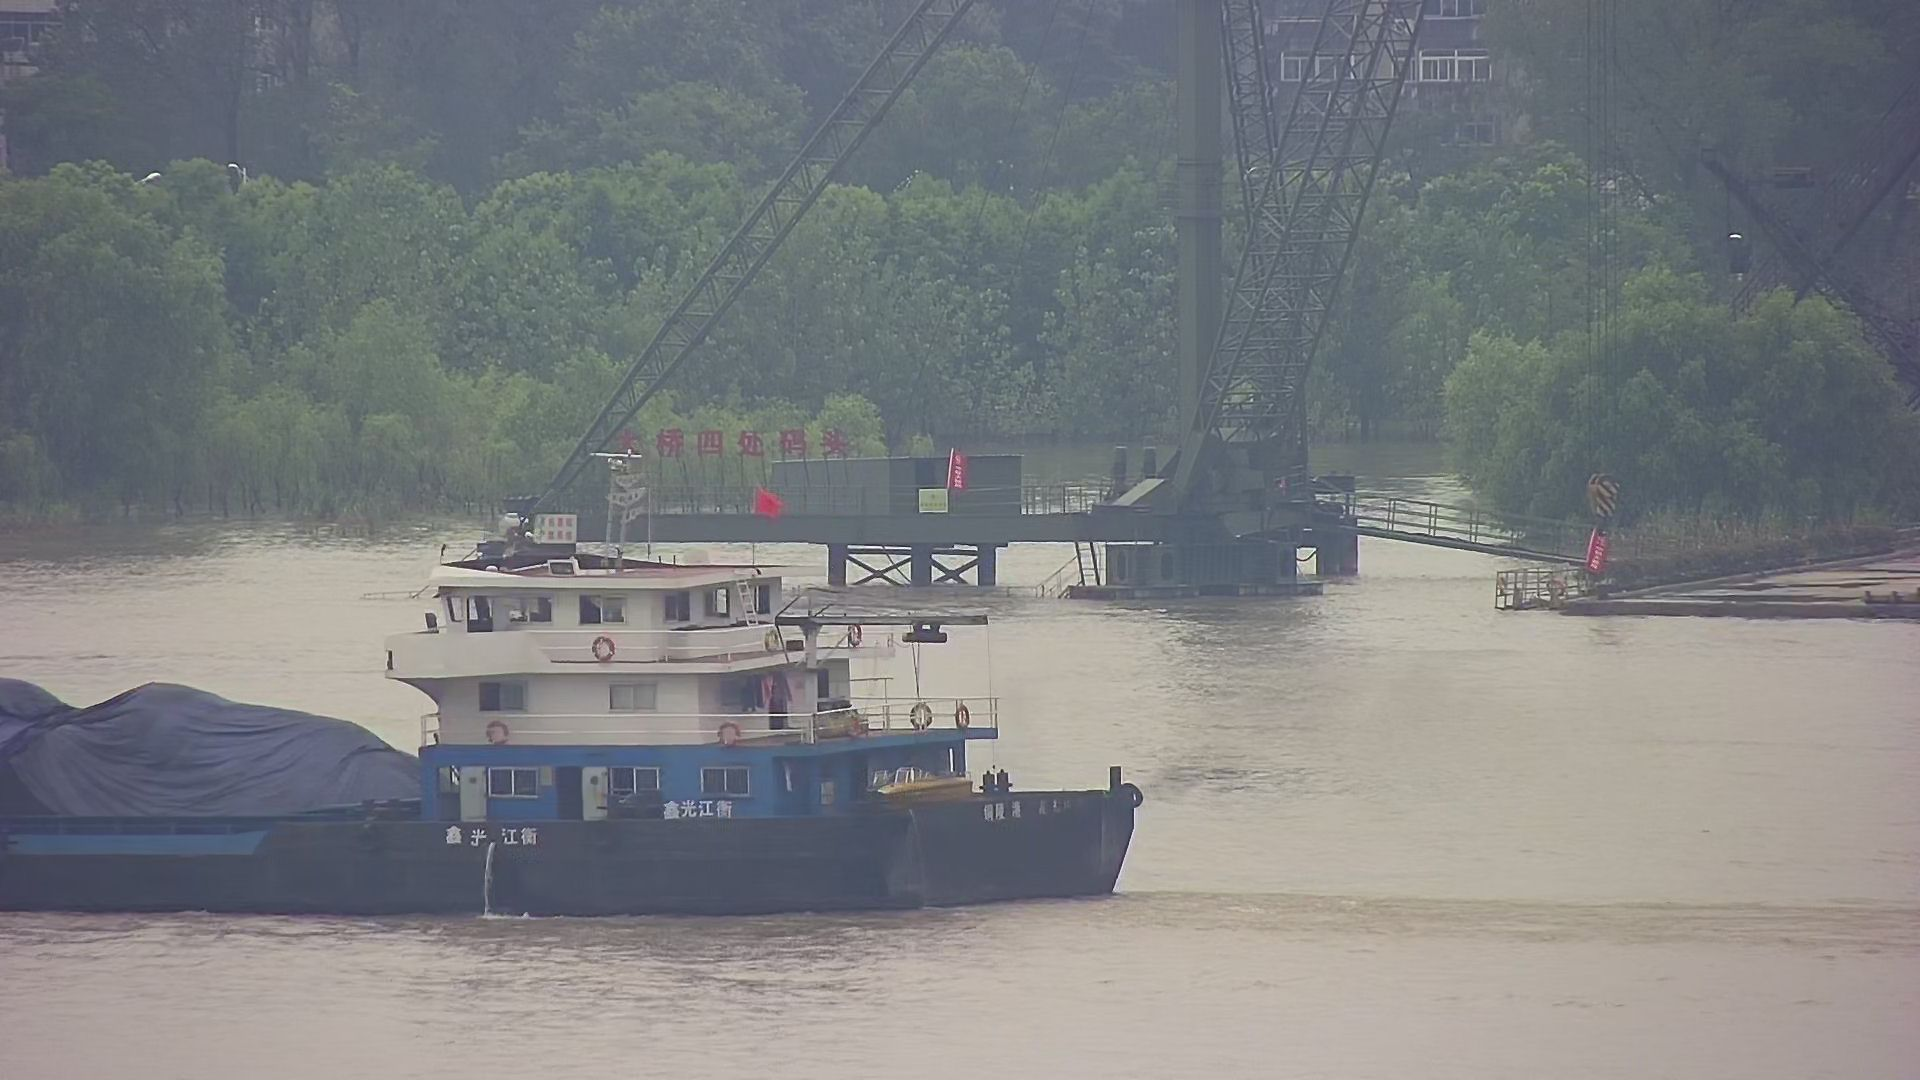platform: (433, 1, 1423, 608)
ship: (1, 434, 1175, 924)
